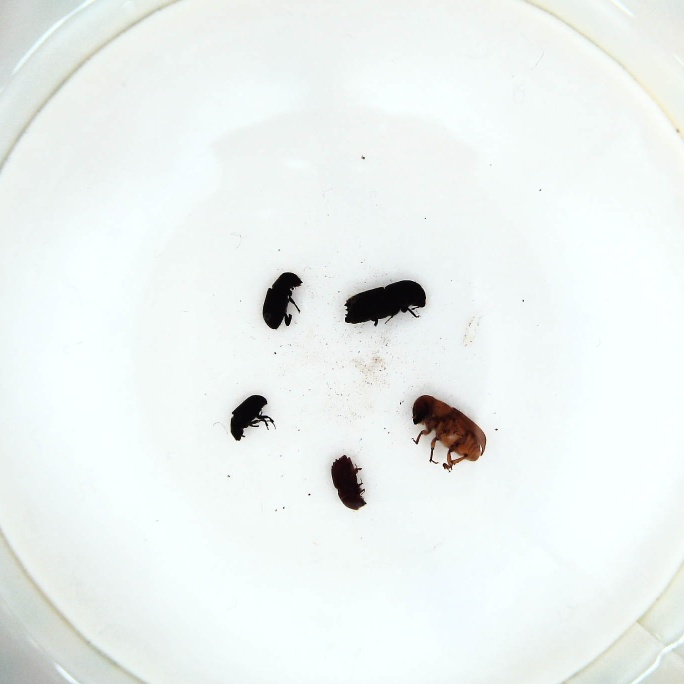armandi: (262, 270, 303, 333)
boerner: (343, 279, 431, 328)
coleoptera: (229, 392, 276, 444)
leconte: (411, 391, 488, 473)
linnaeus: (328, 453, 367, 513)
